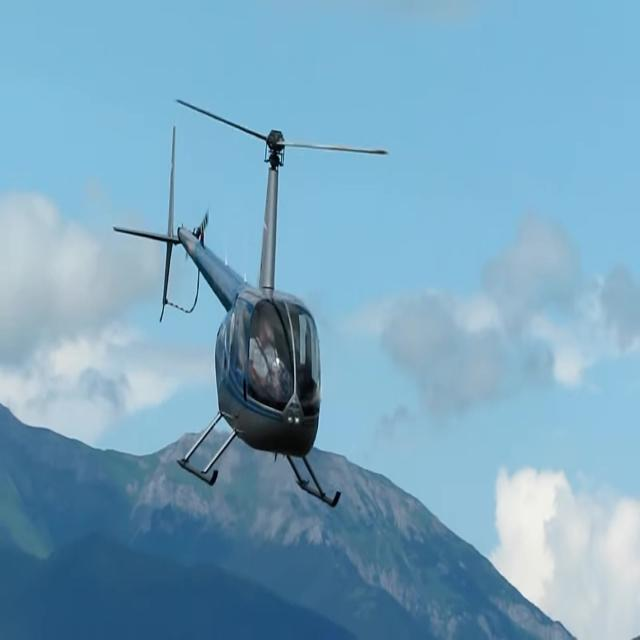CIV_HELO: (110, 125, 342, 515)
